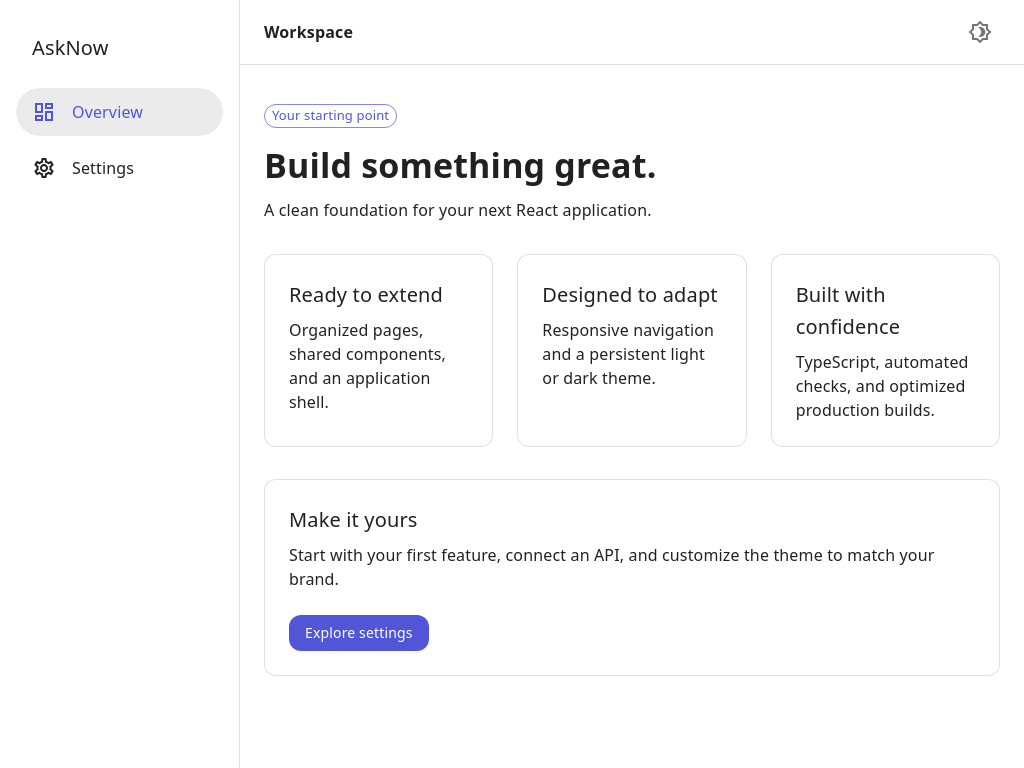
navigates from overview to settings
Expected: the heading "Build something great." is shown, [264, 142, 656, 188]
Click the link "Explore settings" at (359, 633), box [289, 615, 429, 651]
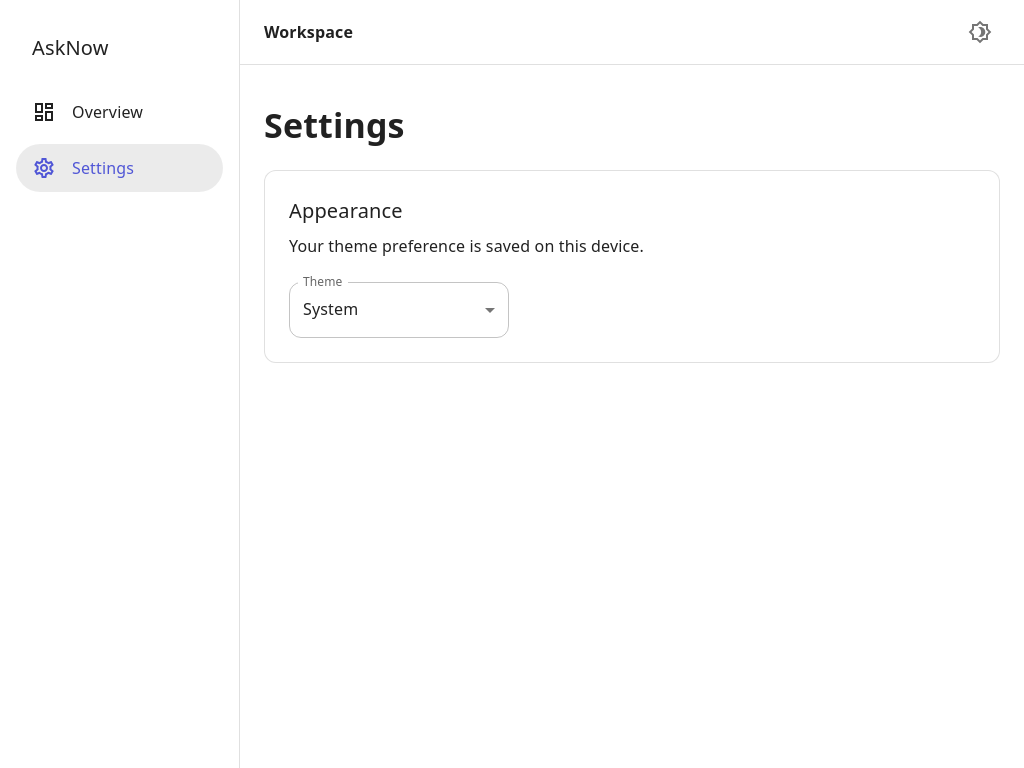
Now the heading "Settings" is shown, box [264, 102, 405, 148]
Now the dropdown named "Theme" is shown, box [303, 298, 358, 320]
